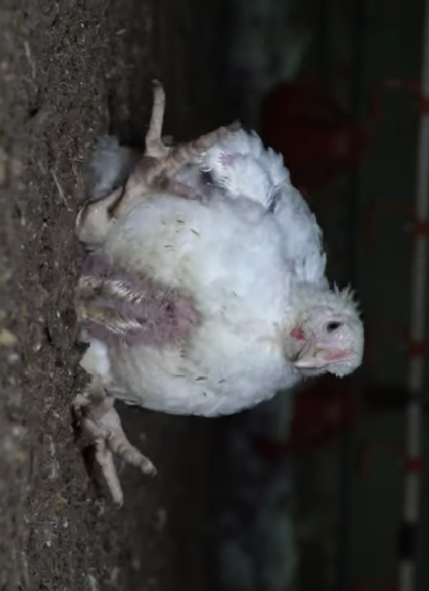Unhealthy: (56, 64, 377, 509)
